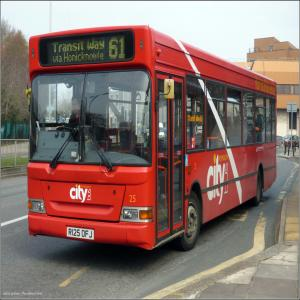Vehicle-registration-plate: (67, 226, 95, 242)
